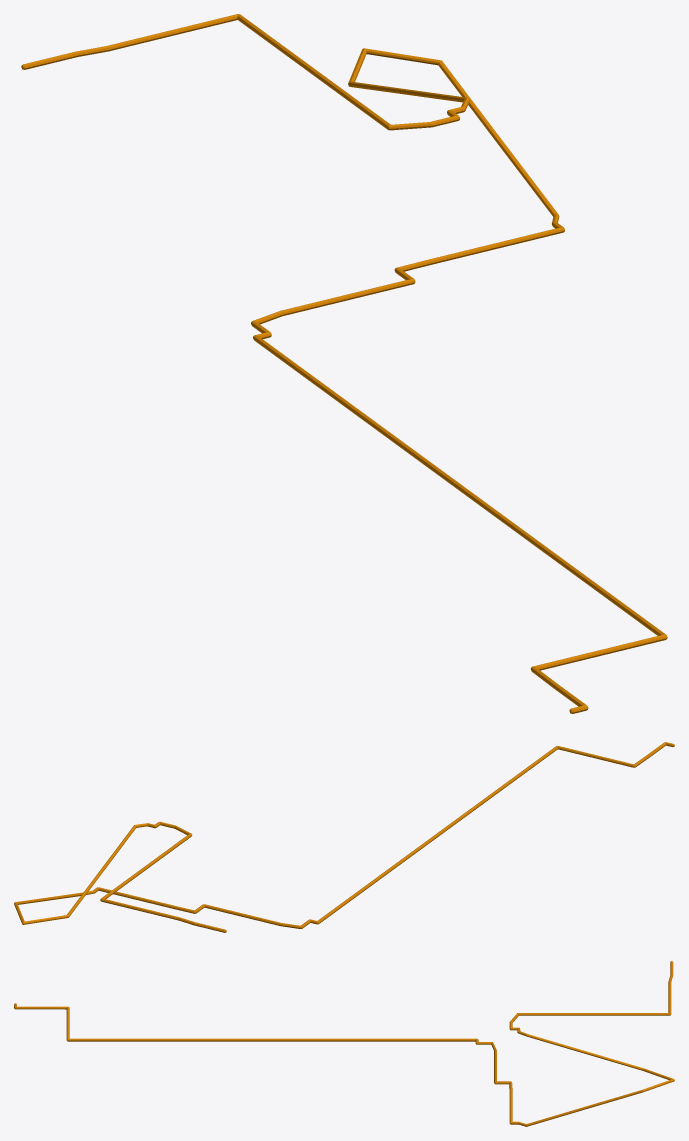
3 views of the same model, one above another, from view 1: azimuth 30°, elevation 25°; view 2: azimuth 150°, elevation 25°; view 3: azimuth 270°, elevation 25° (orthographic). The views are drawn at different scales.
Size of the model in its own units: 1907 by 520 by 4365.
